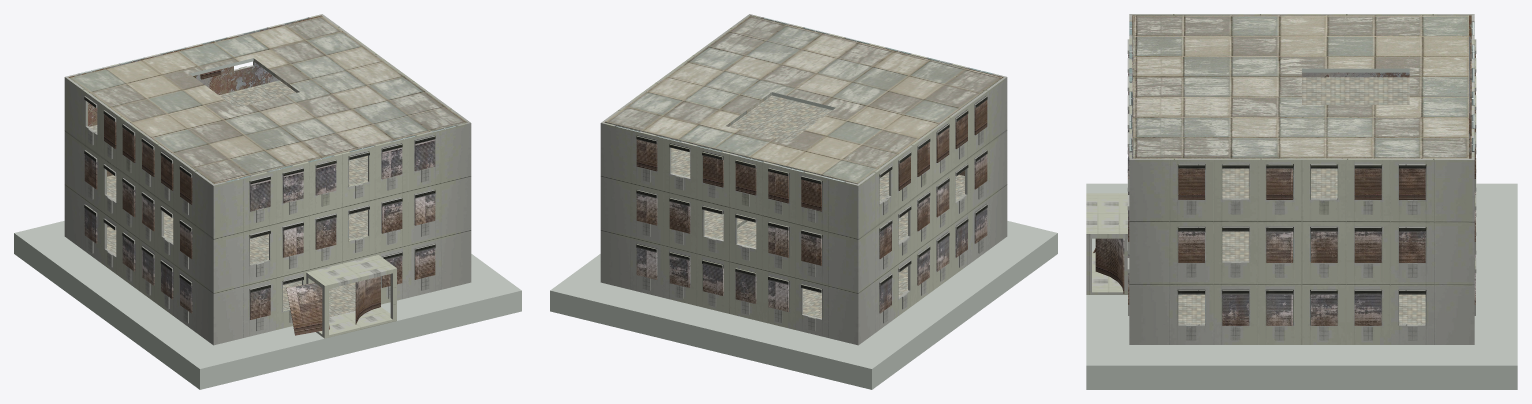
File: BagSS03base_500.fbx
3 renders of one model, left to right at view 1: azimuth 30°, elevation 25°; view 2: azimuth 150°, elevation 25°; view 3: azimuth 270°, elevation 25°, orthographic. The views are drawn at different scales.
Parts seen in each view (by area): view 1: baseMain500, baseFloors500, baseBase500, basewindows500, baseporch500, basedoor500, baseInnerwall500; view 2: baseMain500, baseFloors500, baseBase500, basewindows500; view 3: baseMain500, baseFloors500, baseBase500, basewindows500, baseporch500, basedoor500, baseInnerwall500, baseCeiling500.
Part boxes in pixels (x1=…): baseMain500: x1=64, y1=14, x2=471, y2=345; baseFloors500: x1=69, y1=16, x2=467, y2=316; baseBase500: x1=14, y1=221, x2=521, y2=389; basewindows500: x1=84, y1=69, x2=435, y2=319; baseporch500: x1=306, y1=255, x2=396, y2=338; basedoor500: x1=286, y1=276, x2=380, y2=335; baseInnerwall500: x1=68, y1=15, x2=322, y2=227; baseMain500: x1=600, y1=14, x2=1007, y2=345; baseFloors500: x1=605, y1=16, x2=1002, y2=318; baseBase500: x1=550, y1=221, x2=1057, y2=389; basewindows500: x1=636, y1=100, x2=987, y2=313; baseMain500: x1=1127, y1=14, x2=1476, y2=344; baseFloors500: x1=1133, y1=15, x2=1468, y2=324; baseBase500: x1=1086, y1=183, x2=1517, y2=389; basewindows500: x1=1128, y1=42, x2=1475, y2=325; baseporch500: x1=1086, y1=193, x2=1127, y2=294; basedoor500: x1=1093, y1=238, x2=1124, y2=293; baseInnerwall500: x1=1132, y1=15, x2=1471, y2=158; baseCeiling500: x1=1302, y1=68, x2=1409, y2=72.
Bounding box in the file's own units: 25.6 × 13.89 × 25.6.
